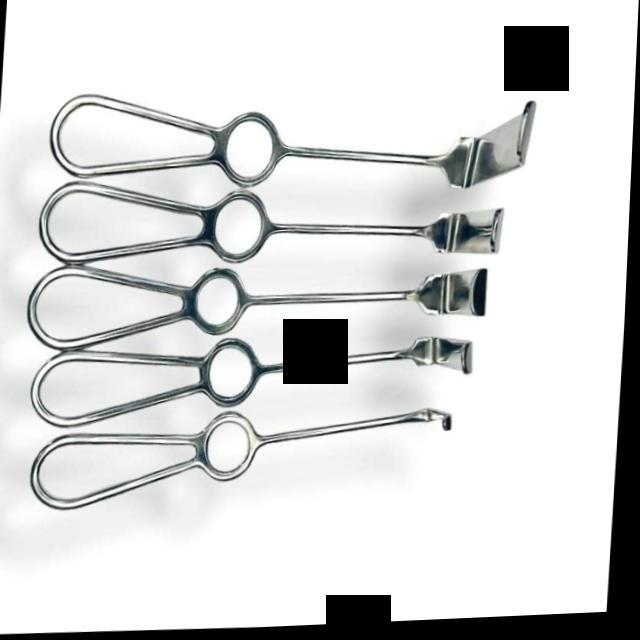Langenbach Retractor: (47, 64, 553, 209), (36, 167, 514, 286), (24, 400, 460, 512), (26, 253, 494, 356), (25, 334, 483, 434)
